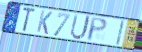7: (54, 11, 72, 37)
I: (115, 20, 126, 47)
K: (35, 9, 54, 36)
P: (86, 17, 108, 43)
T: (21, 6, 37, 33)
U: (69, 13, 92, 41)
